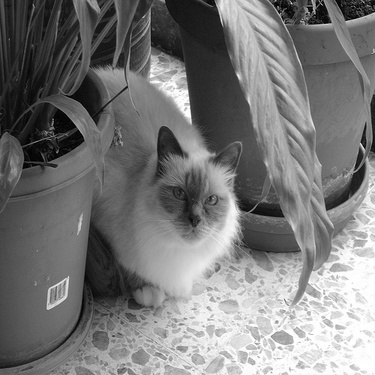cat: (81, 73, 244, 309)
